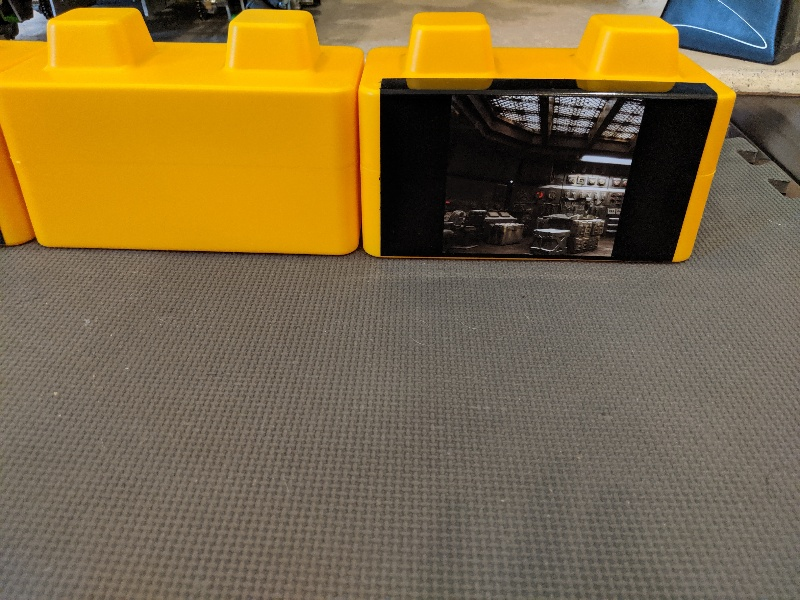Skystone: (372, 68, 726, 271)
